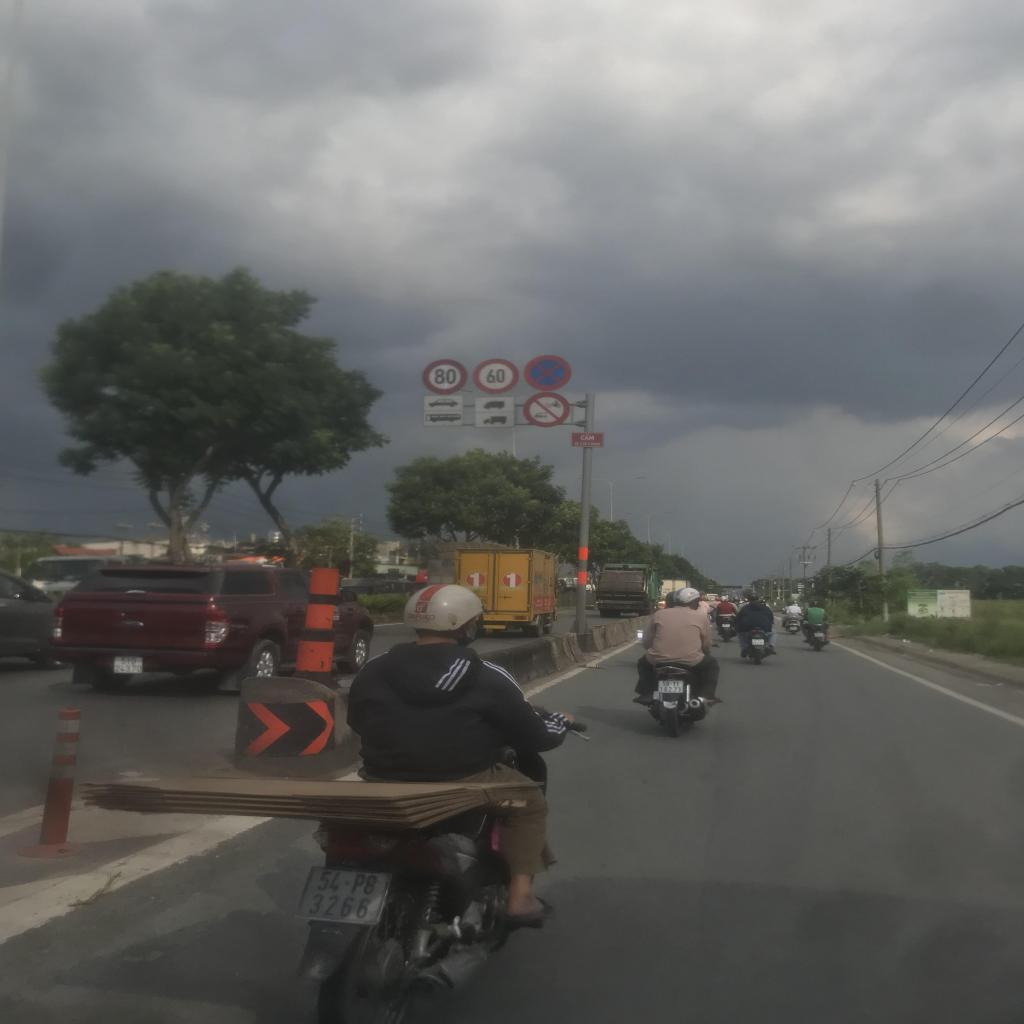cam_dung_xe_va_do_xe: (524, 354, 571, 390)
cam_xe_2_banh_va_xe_3_banh_co_dong_co: (523, 392, 570, 428)
khac: (474, 396, 514, 412), (423, 410, 463, 426), (423, 396, 463, 411), (474, 412, 514, 427)
toc_do_toi_da_60: (473, 358, 519, 394)
toc_do_toi_da_80: (423, 358, 467, 394)
